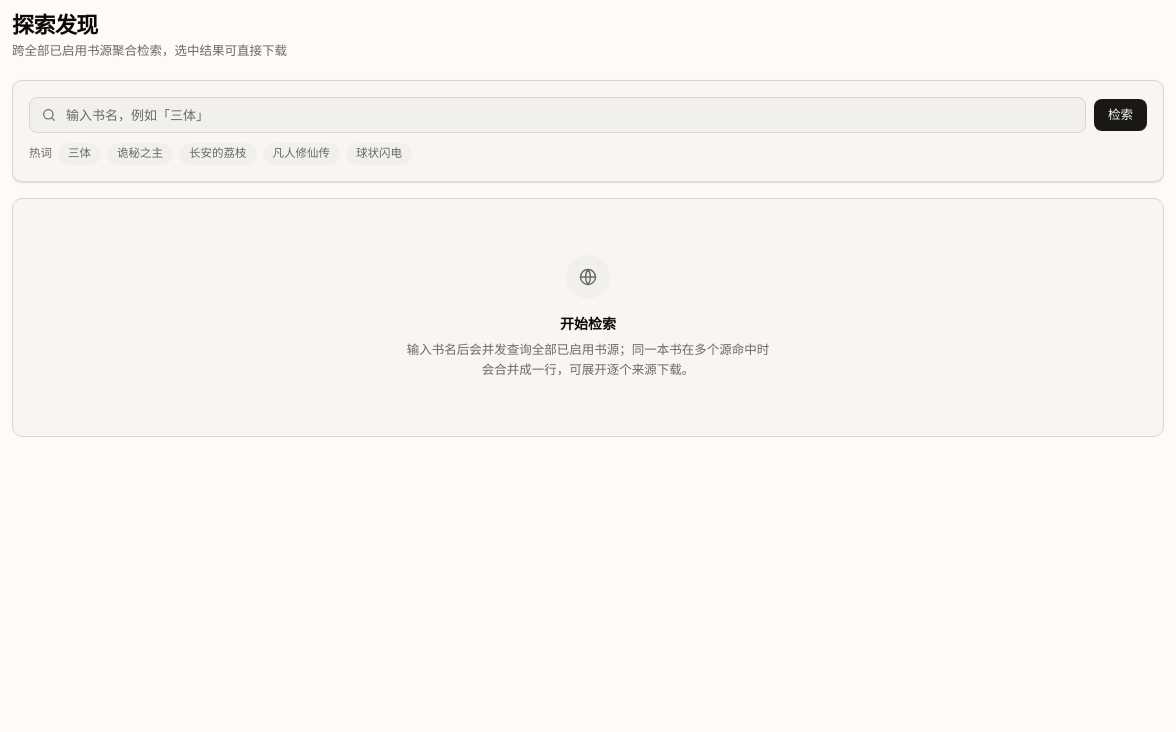
ExploreView · 逐源状态如实显示 › 失败的源给出原因原文，与「被跳过」分开计数
Type "三体" into the field named "搜索书名".
click(558, 115); type("三体")  # box [29,97,1086,133]
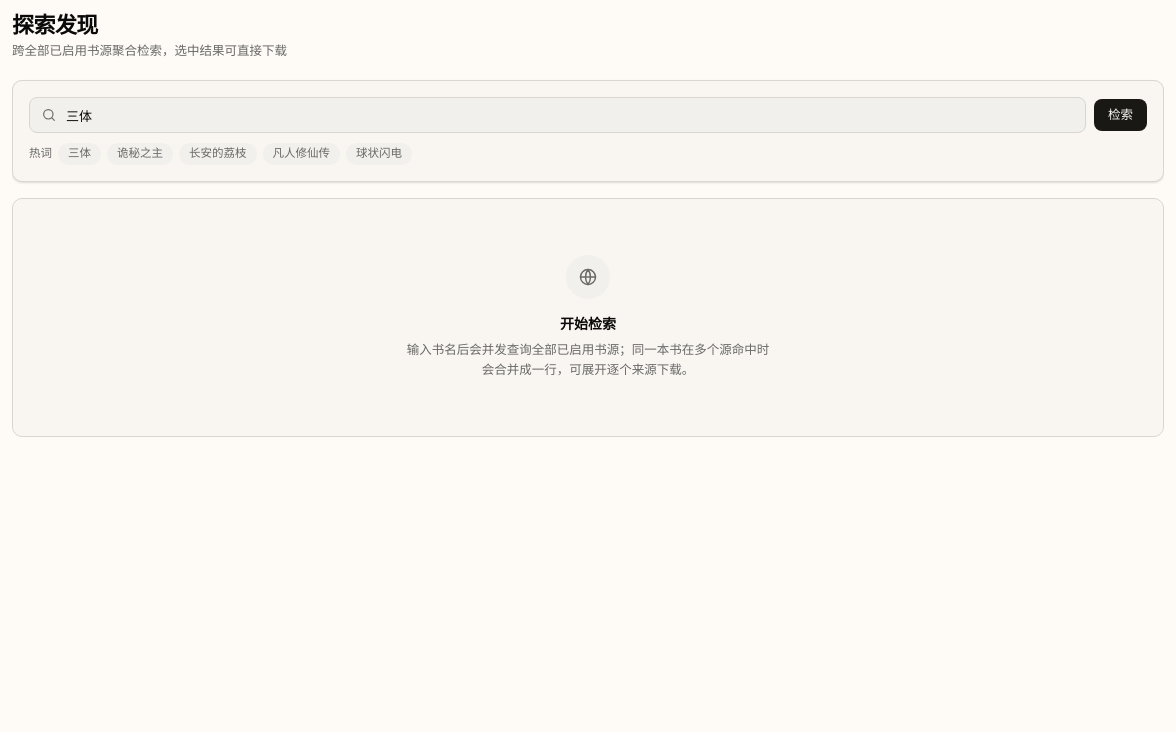
Click the button "检索".
click(1120, 115)  # box [1094,99,1147,131]
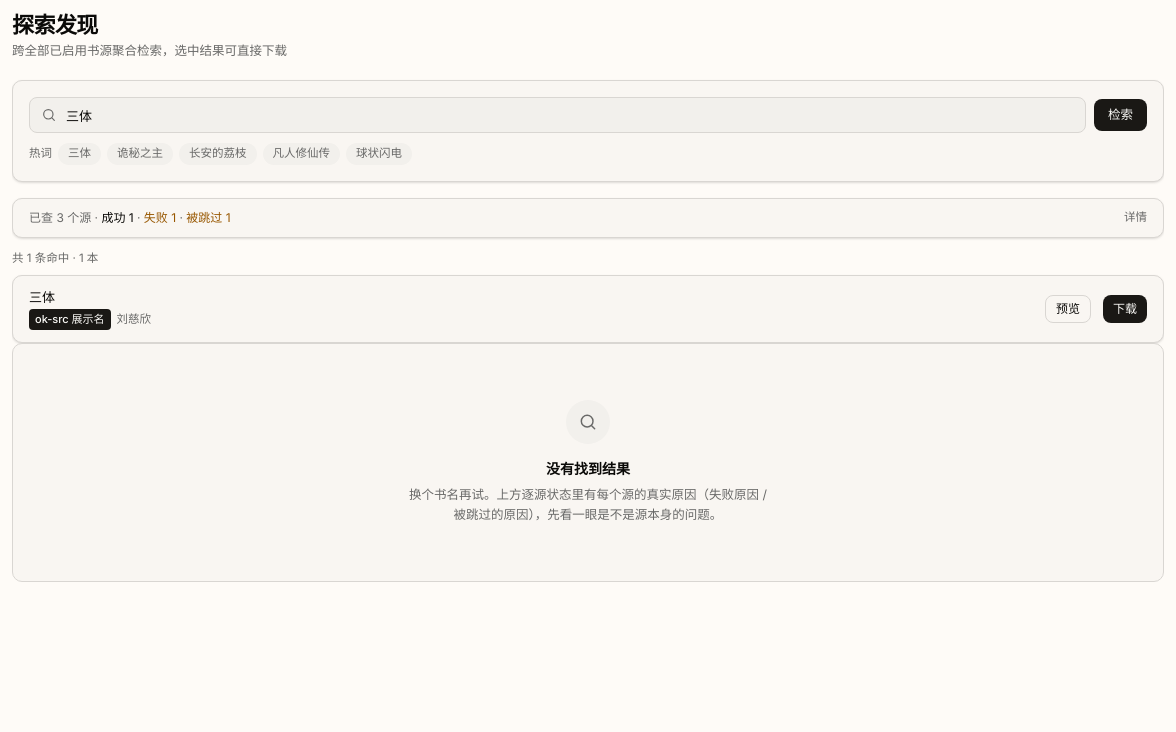
Check: the text "已查 3 个源" is shown, box [29,210,101,224]
Check: the text "成功 1" is shown, box [101,210,134,224]
Check: the text "失败 1" is shown, box [144,210,176,224]
Click the button "已查 3 个源 · 成功 1 · 失败 1 · 被跳过 1 详情".
click(65, 217)  # box [13,198,1163,236]
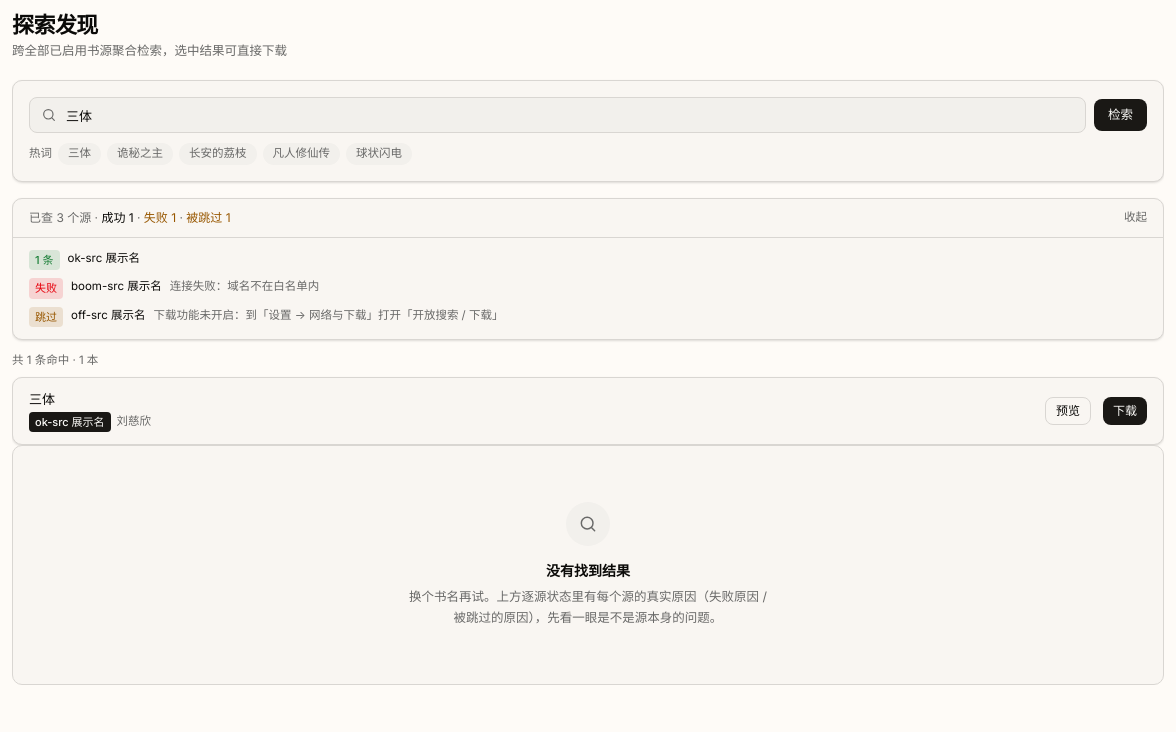
Check: the text "连接失败：域名不在白名单内" is shown, box [170,279,319,293]
Check: the text "下载功能未开启" is shown, box [153,308,504,322]
